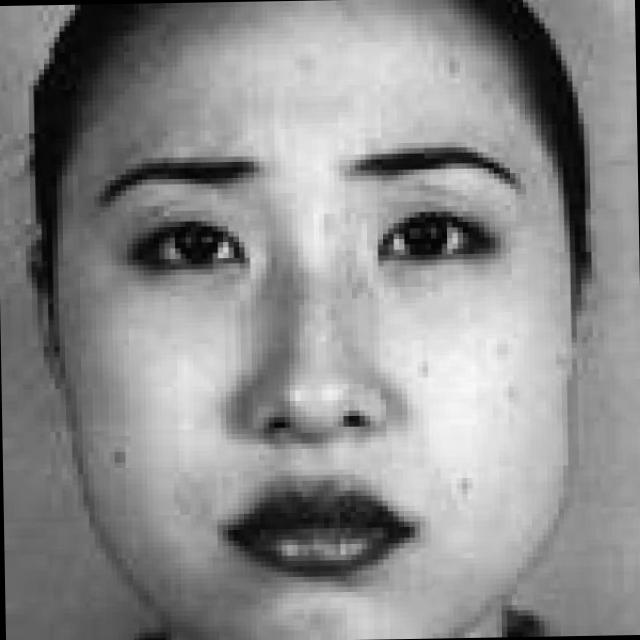sad: (66, 61, 585, 634)
